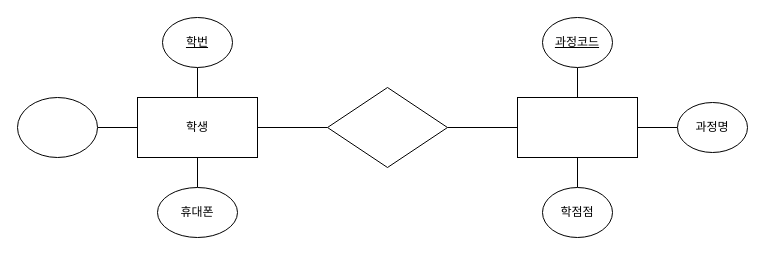
The diagram is 765 pixels wide and 255 high, and some of its shapes have lost their labels. Each missing label, with the centre of its shape:
과정: [577,127]
등록: [387,127]
학생이름: [57,127]
